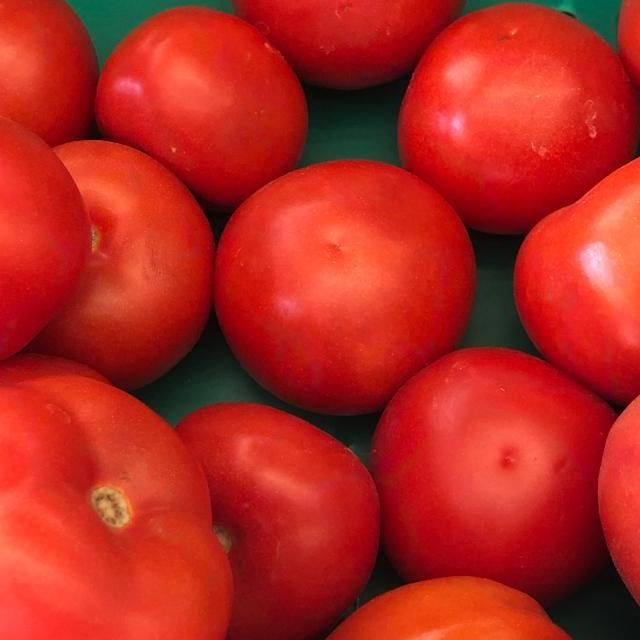tomato: (365, 312, 632, 615), (0, 330, 245, 640), (210, 145, 488, 415), (397, 0, 640, 230), (552, 280, 640, 640), (205, 0, 495, 105), (0, 87, 80, 347)
